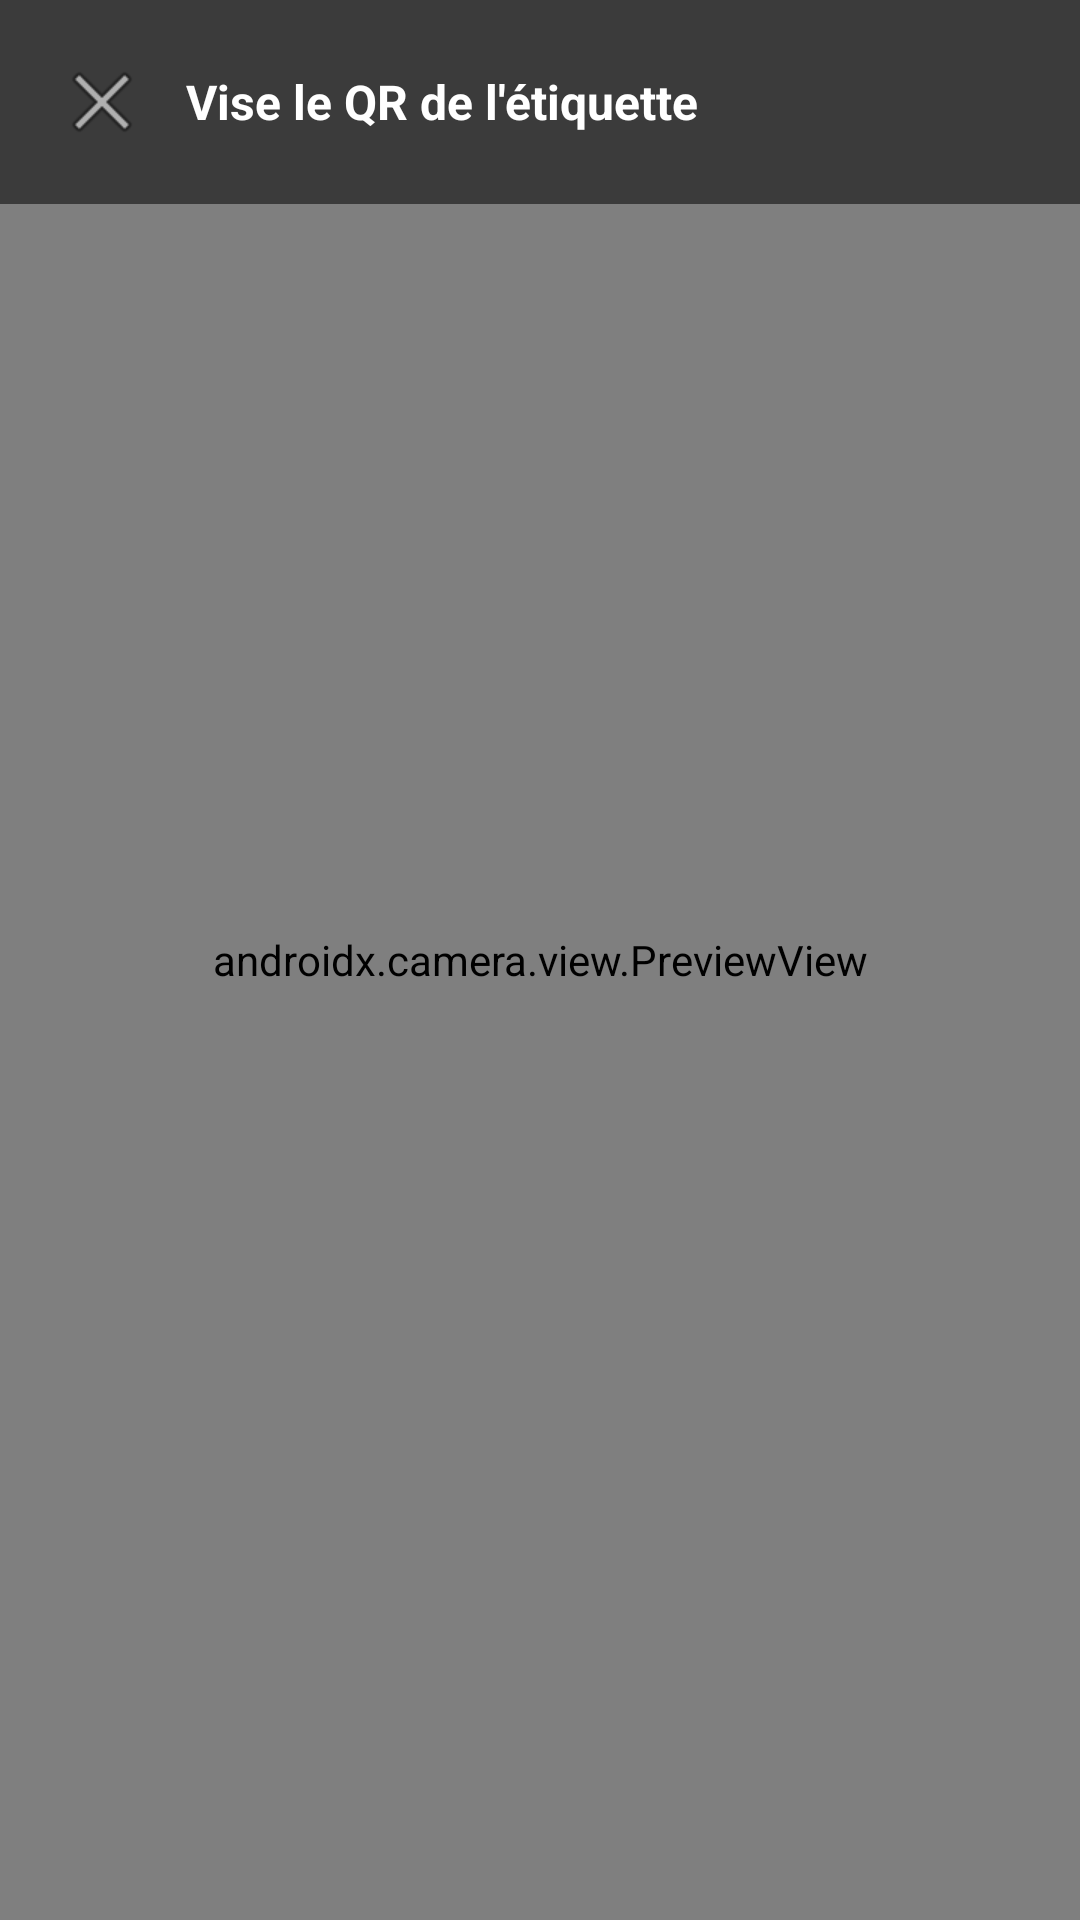

Screen size 1080×1920. Icon name, then its center in pixels as (x,y):
Fermer: (102,102)
